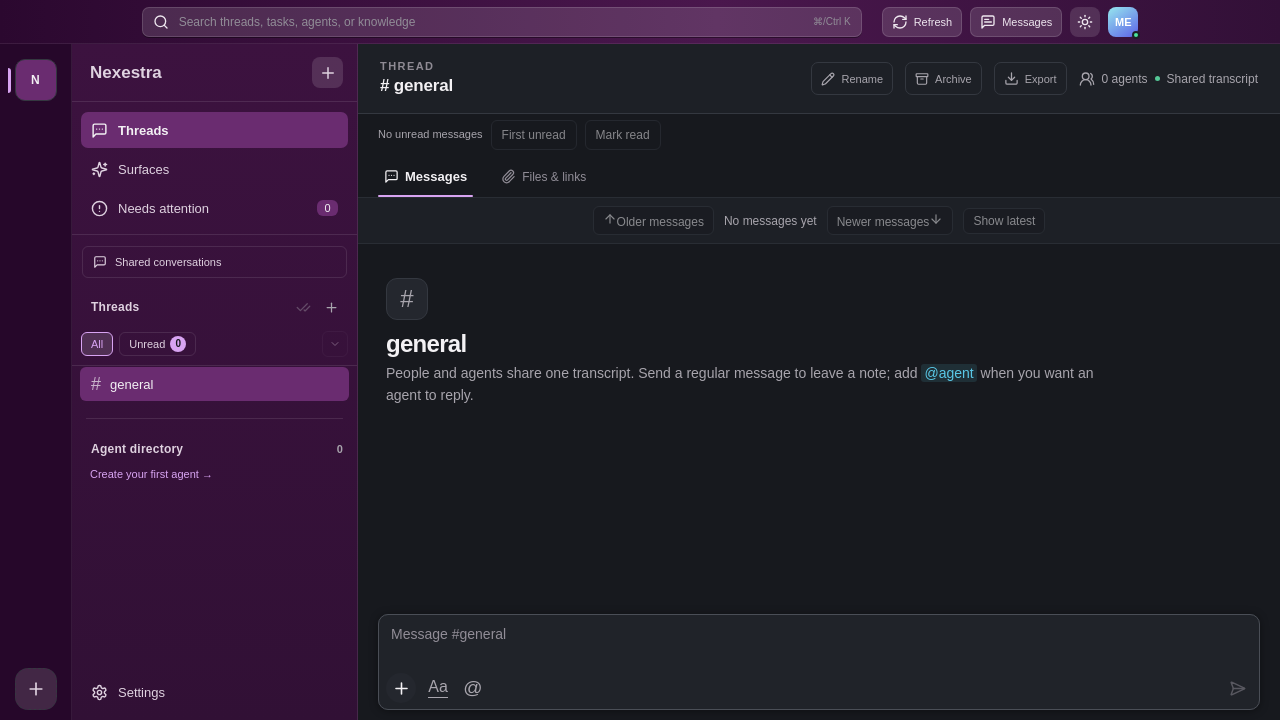
Test: Submission timing › posts the text captured at Send and keeps a newer edited draft
In the dropdown labelled "Message": (819, 642) [379,615,1259,669], type "original text"
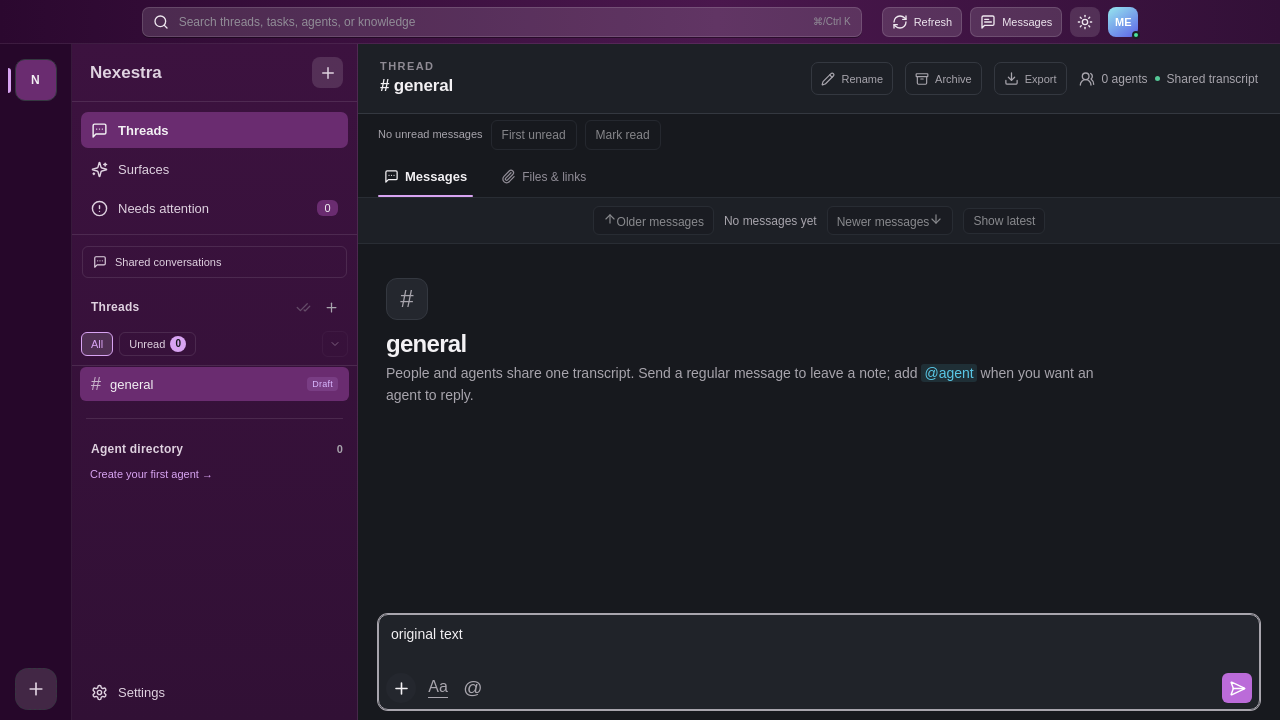
Click the button named "Send": click(1237, 688) [1222,673,1252,703]
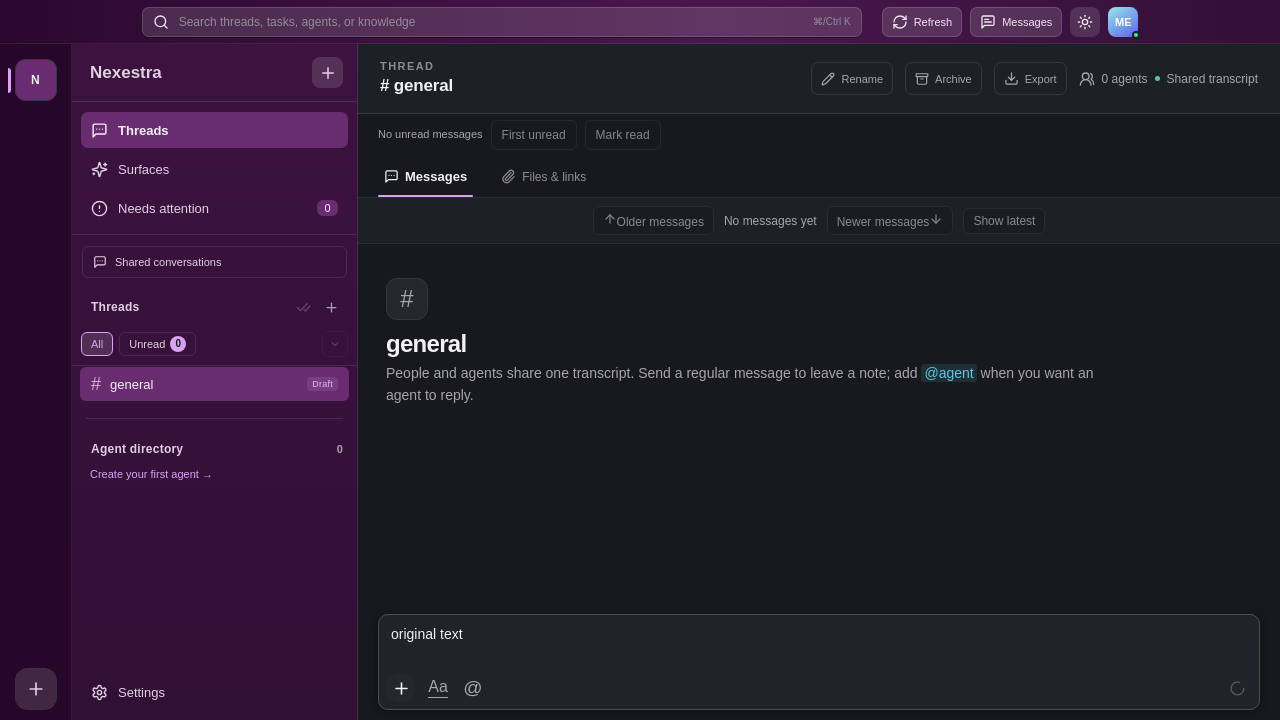
In the dropdown named "Message": (819, 642) [379,615,1259,669], type " newer draft"
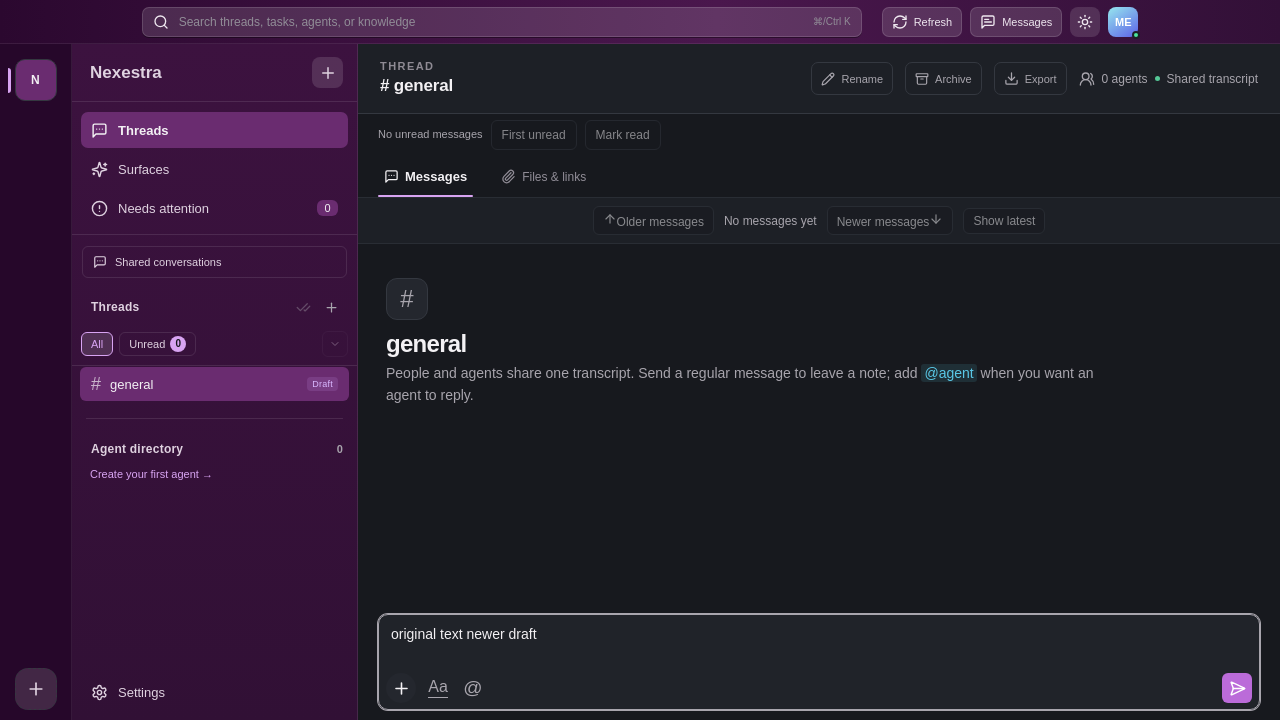
Result: the dropdown named "Message" holds "original text newer draft" at [379,615,1259,669]
